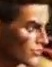kevin: (3, 0, 46, 66)
